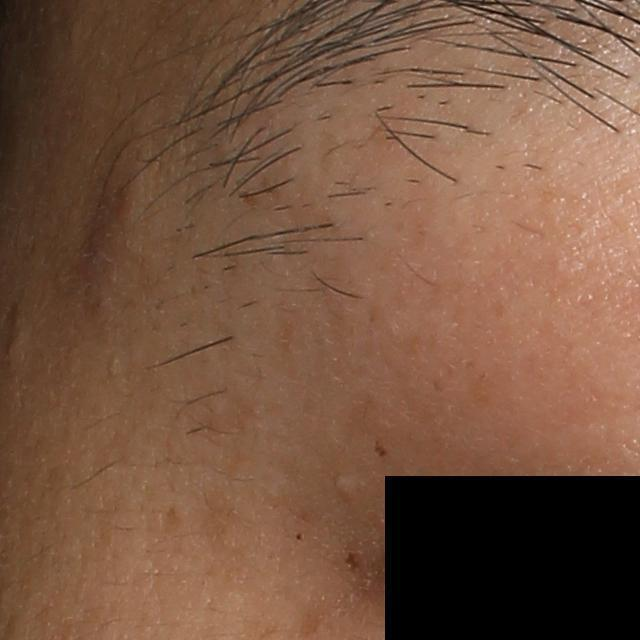comedo: (332, 469, 363, 506)
nevus: (373, 439, 389, 459)
